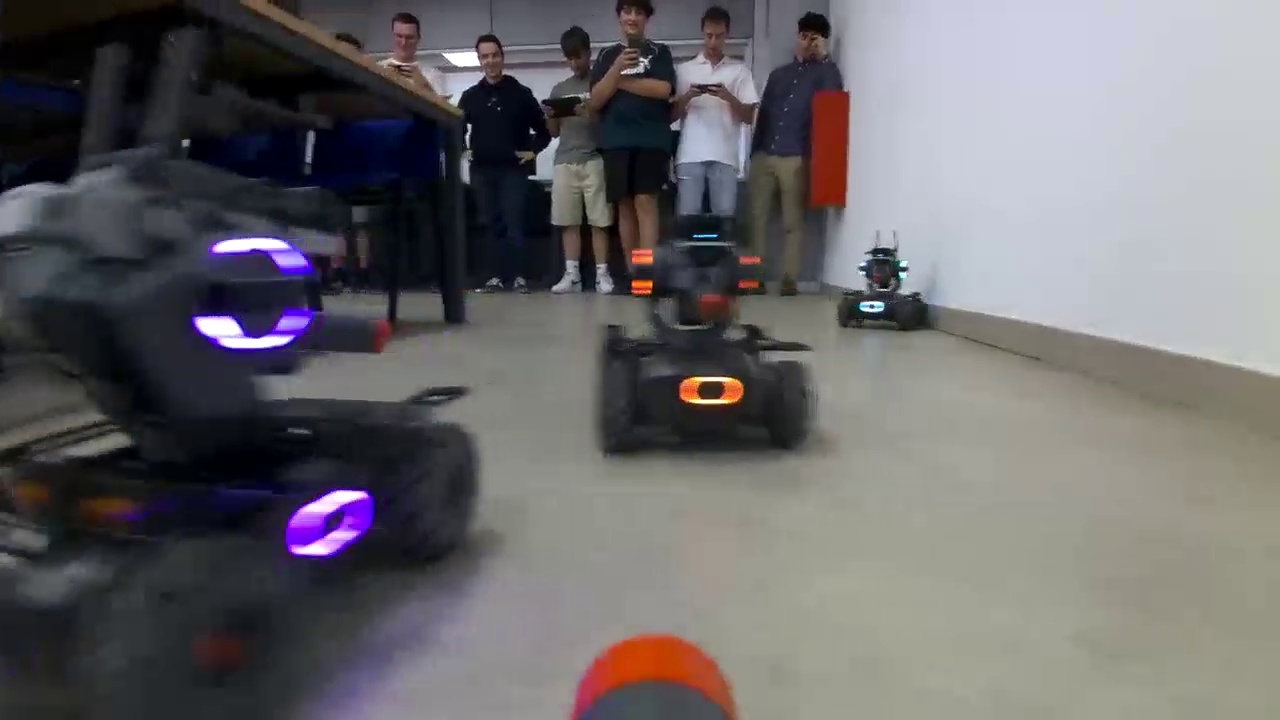robot: (5, 170, 495, 705), (595, 227, 833, 467), (843, 237, 940, 322)
